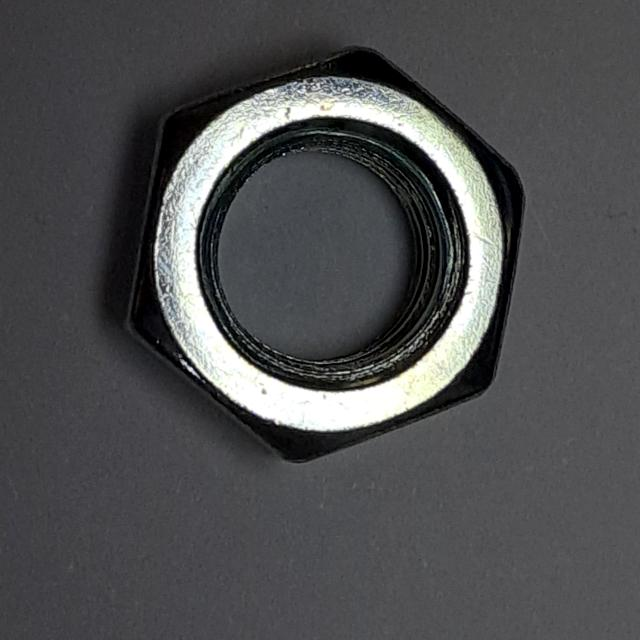Excellent: (100, 32, 536, 482)
